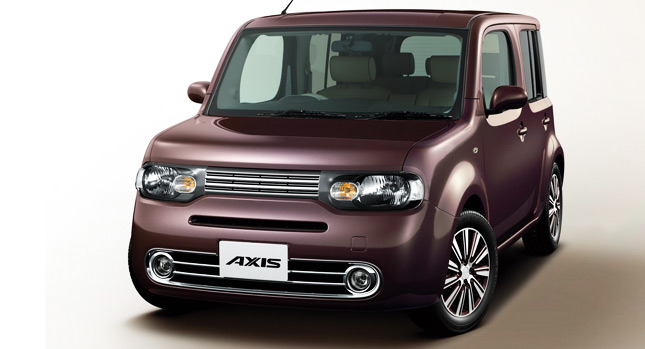front_view: (6, 31, 82, 63)
headlight: (28, 45, 38, 55)
side_glass: (102, 13, 128, 33)
